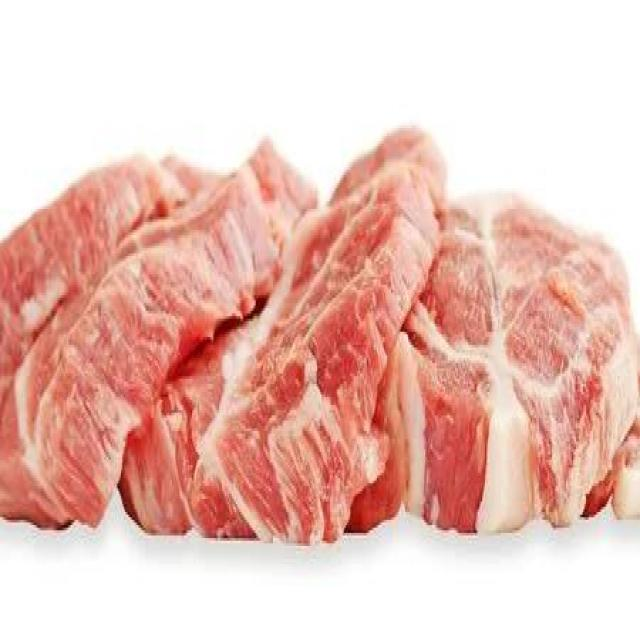Pork: (206, 142, 434, 532), (435, 236, 610, 511)
